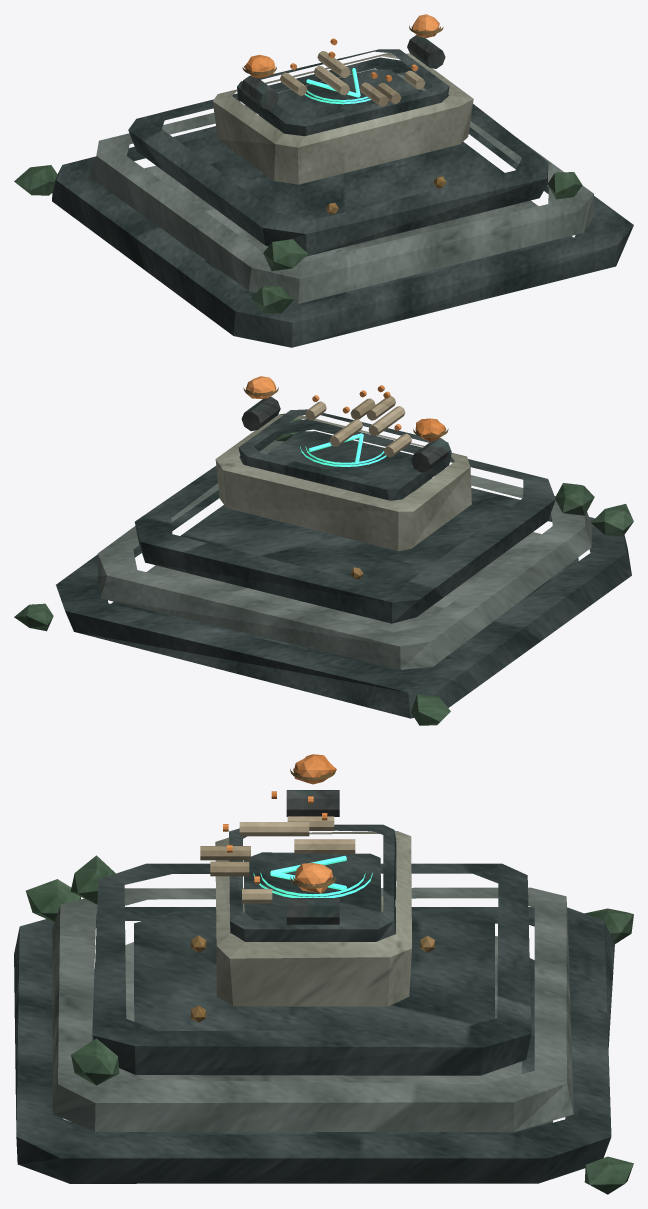
The model's file is 0472_altar_22.glb.
The picture shows the model from 3 angles, top to bottom: view 1: azimuth 30°, elevation 25°; view 2: azimuth 150°, elevation 25°; view 3: azimuth 270°, elevation 25°; orthographic projection. The views are drawn at different scales.
Visible parts, largest first — view 1: stone_dark, stone, stone_light, moss, bone, iron, amber, glow, brass; view 2: stone_dark, stone, stone_light, moss, bone, iron, amber, glow; view 3: stone_dark, stone, stone_light, moss, bone, iron, amber, glow, brass.
Part boxes in pixels (box(x1,y1,x2,y2)): stone_dark: box(52, 49, 633, 347); stone: box(89, 73, 594, 303); stone_light: box(212, 53, 473, 184); moss: box(14, 165, 582, 313); bone: box(280, 51, 425, 106); iron: box(240, 35, 445, 109); amber: box(244, 14, 439, 81); glow: box(303, 68, 387, 104); brass: box(238, 25, 446, 214); stone_dark: box(56, 409, 631, 718); stone: box(97, 440, 591, 669); stone_light: box(215, 414, 471, 551); moss: box(14, 413, 633, 725); bone: box(305, 396, 411, 457); iron: box(241, 396, 450, 472); amber: box(245, 376, 446, 441); glow: box(300, 433, 386, 466); stone_dark: box(14, 824, 614, 1183); stone: box(52, 887, 573, 1132); stone_light: box(215, 831, 411, 1006); moss: box(26, 855, 633, 1194); bone: box(200, 816, 355, 903); iron: box(286, 790, 339, 924); amber: box(223, 754, 336, 893); glow: box(253, 856, 372, 897); brass: box(191, 768, 435, 1022).
Size of the model in its own units: 2.93 by 1.3 by 2.82.
9 materials, 9 textured.
